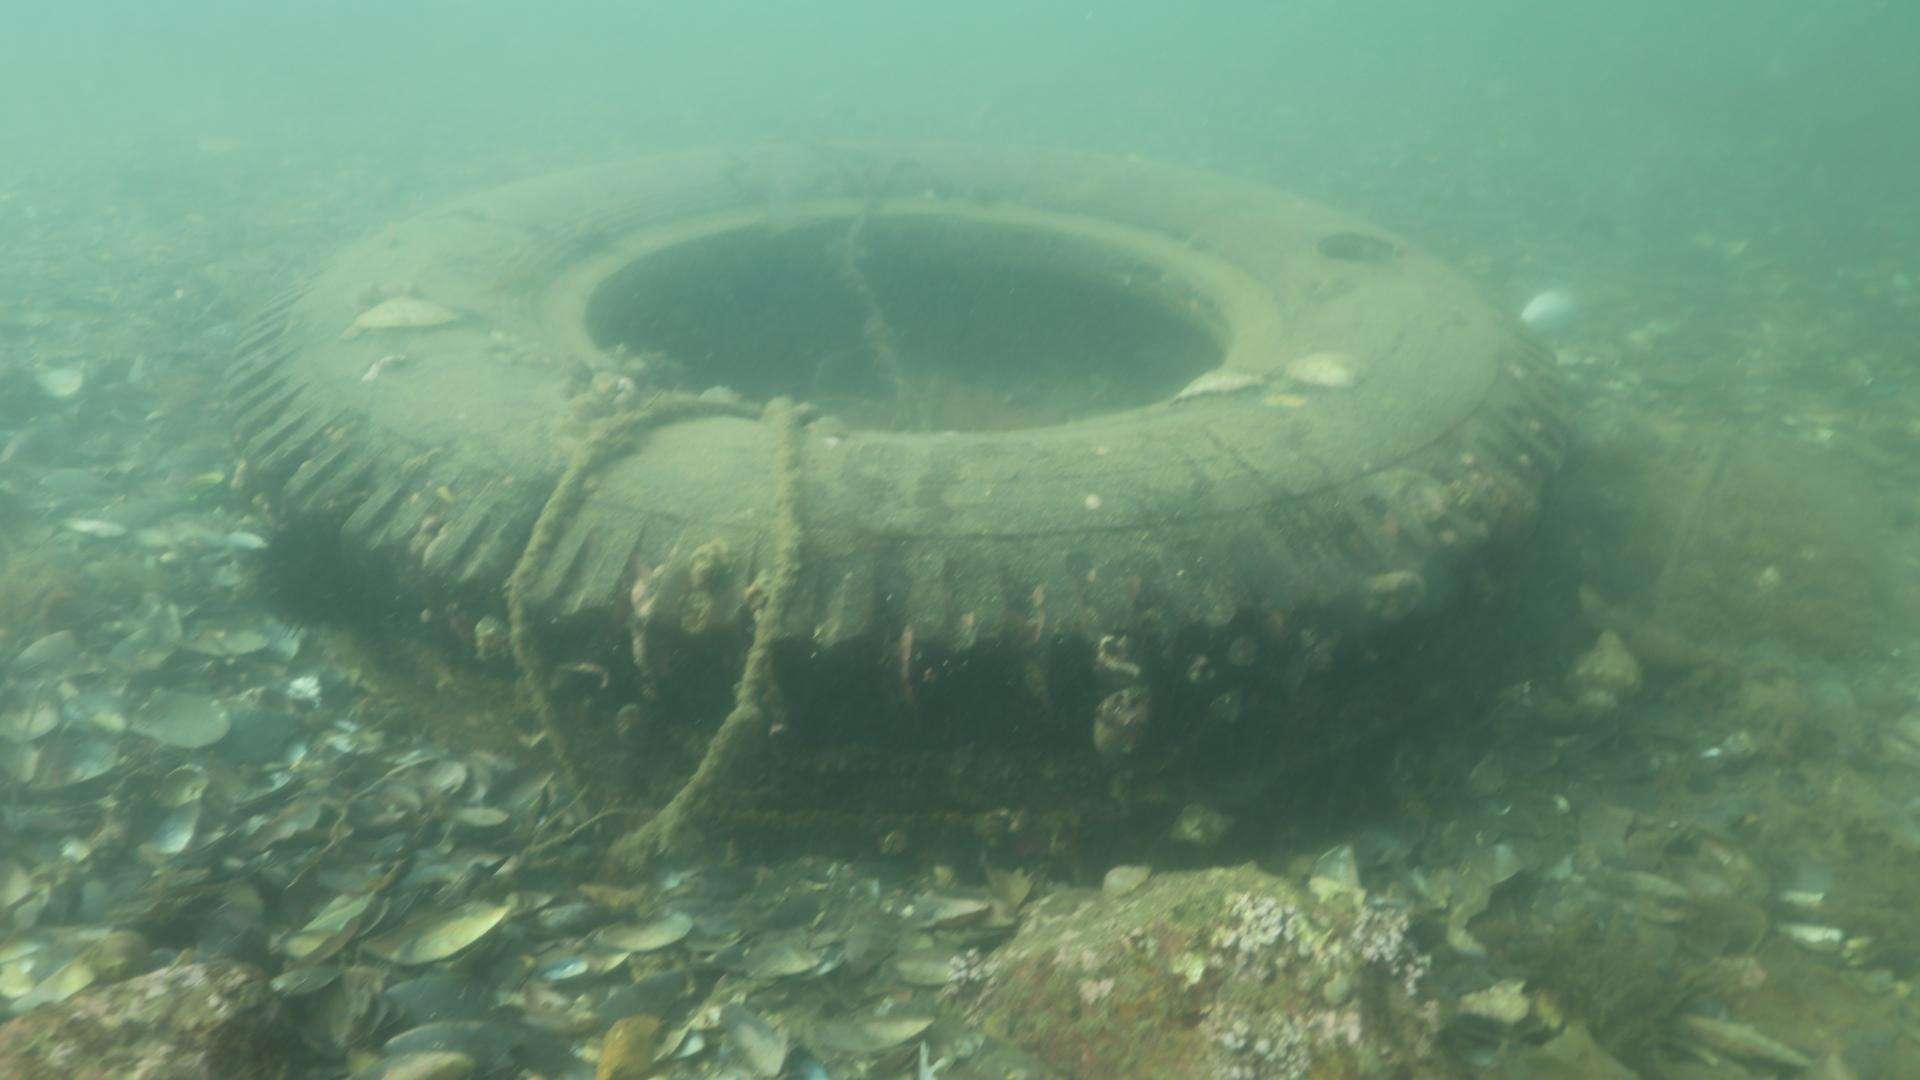bundle of ropes: (505, 390, 822, 848)
tire: (222, 145, 1571, 873)
